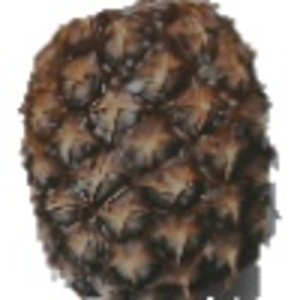abacaxi: (14, 3, 281, 298)
